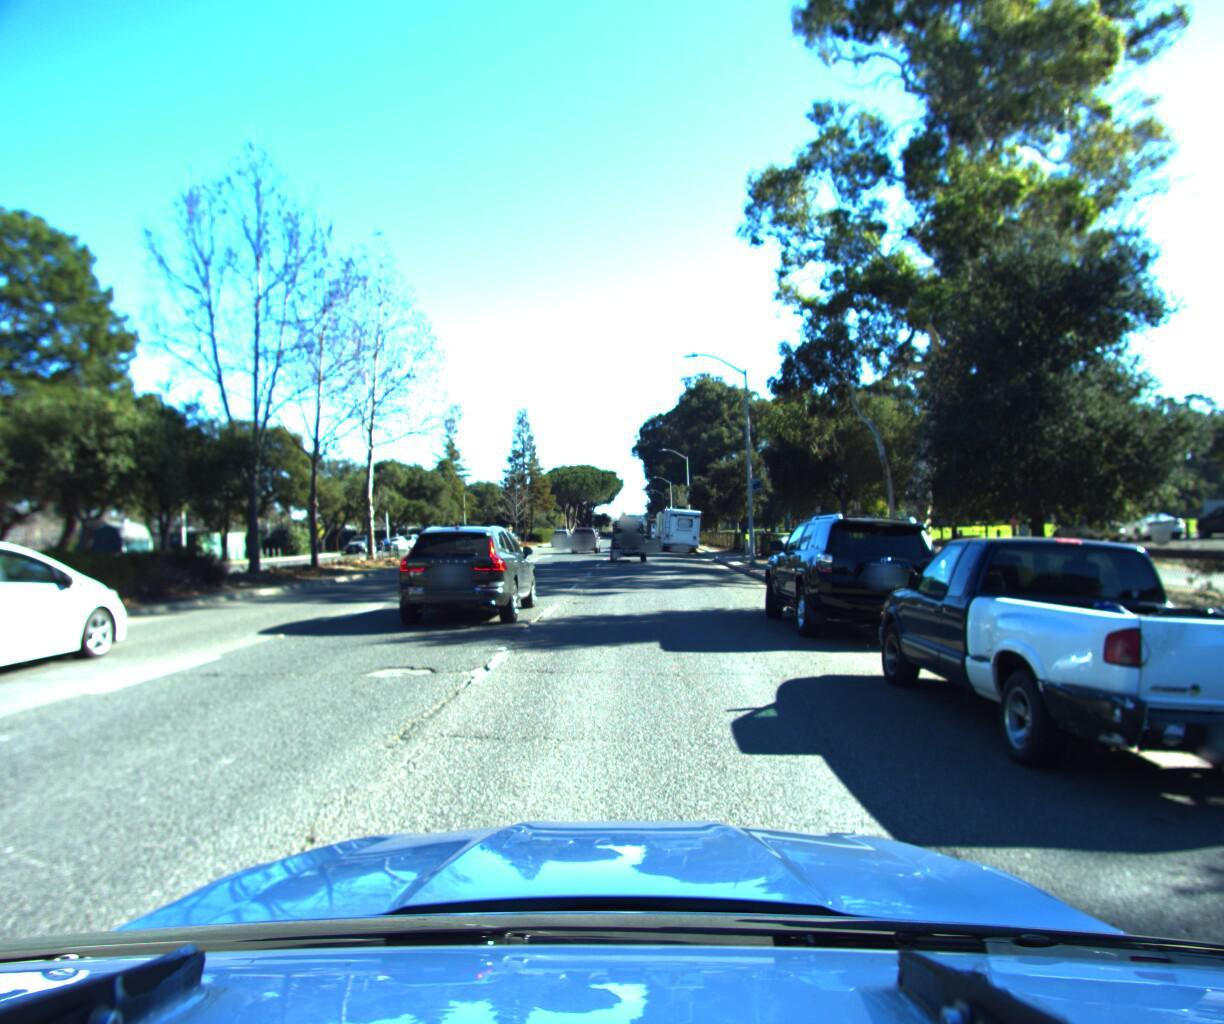car: (870, 522, 1224, 825), (0, 526, 162, 733), (760, 504, 962, 647), (394, 519, 541, 629), (605, 513, 653, 560), (568, 521, 601, 550), (552, 529, 575, 547)
other_vehicle: (660, 502, 706, 549), (652, 505, 690, 544)
